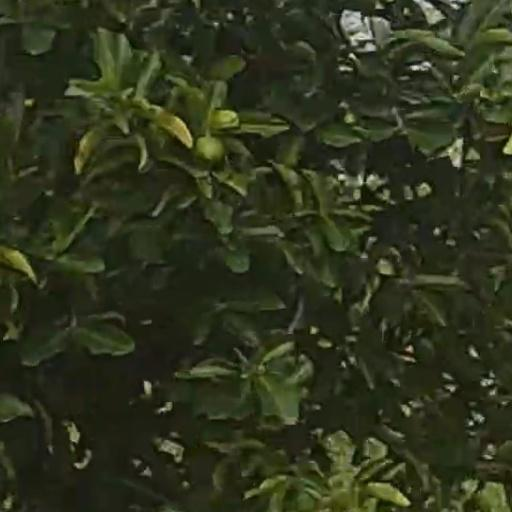acerola: (193, 136, 224, 168)
